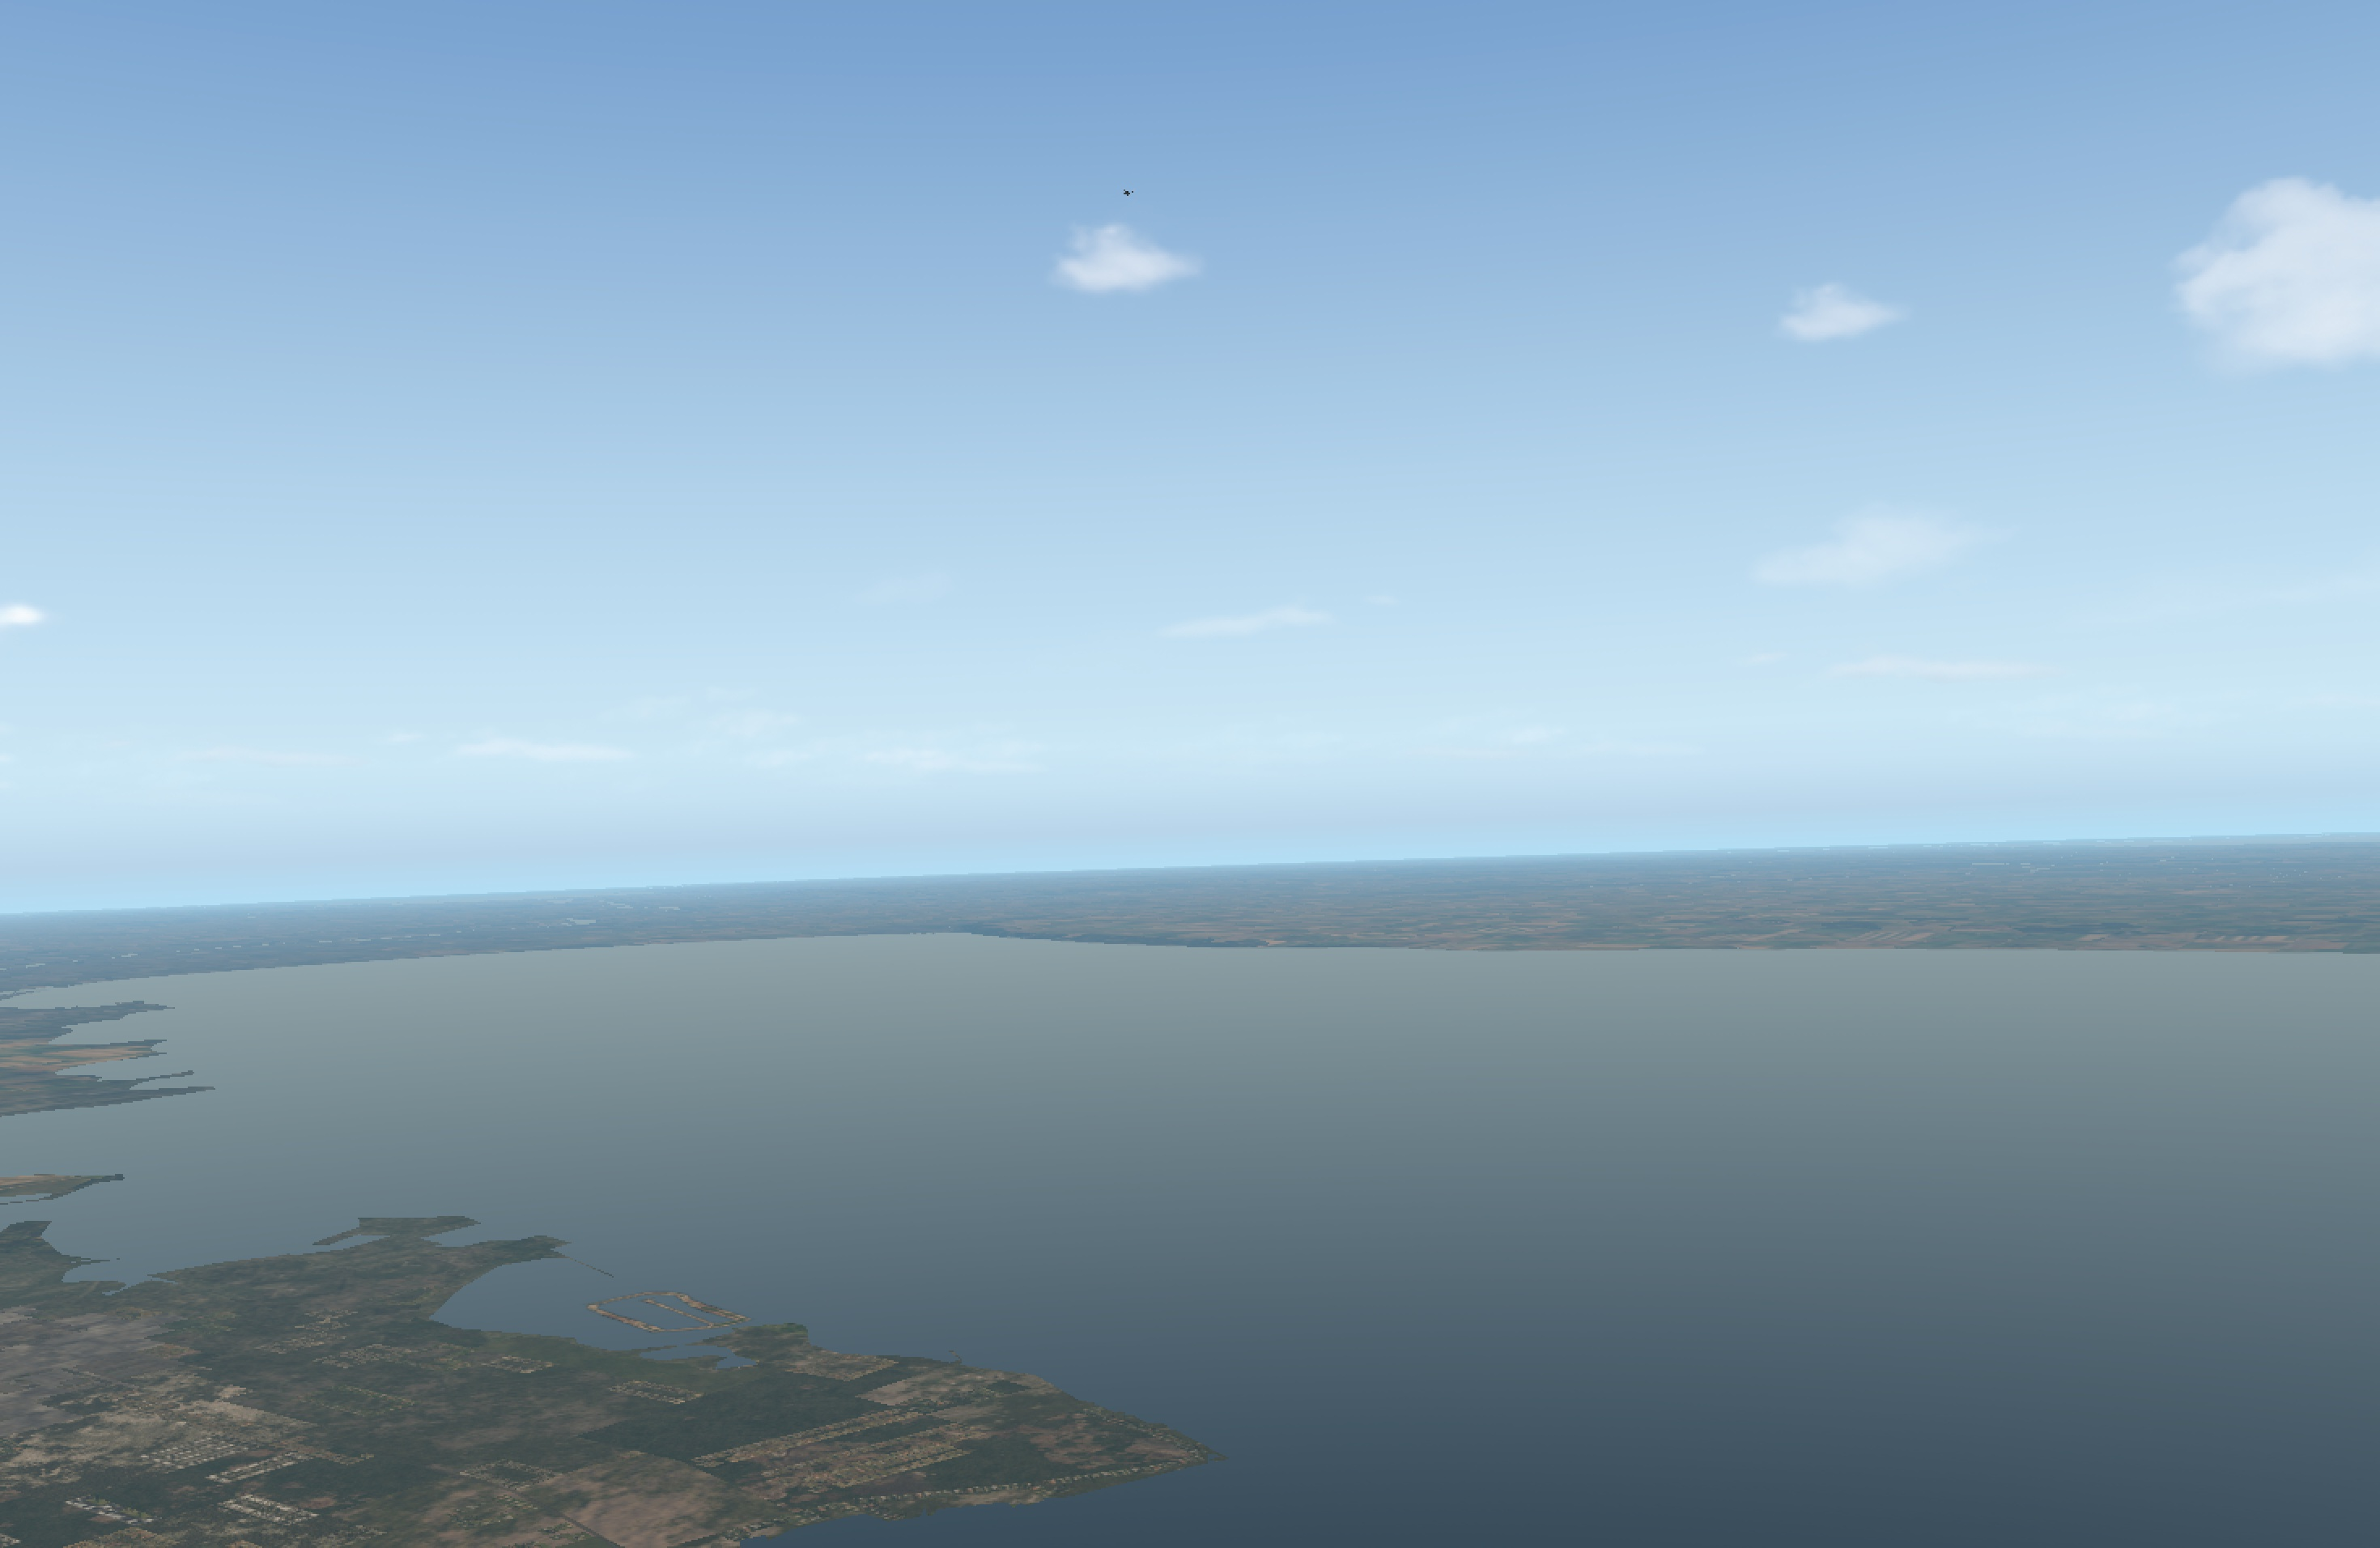aircraft: (1121, 191, 1133, 194)
